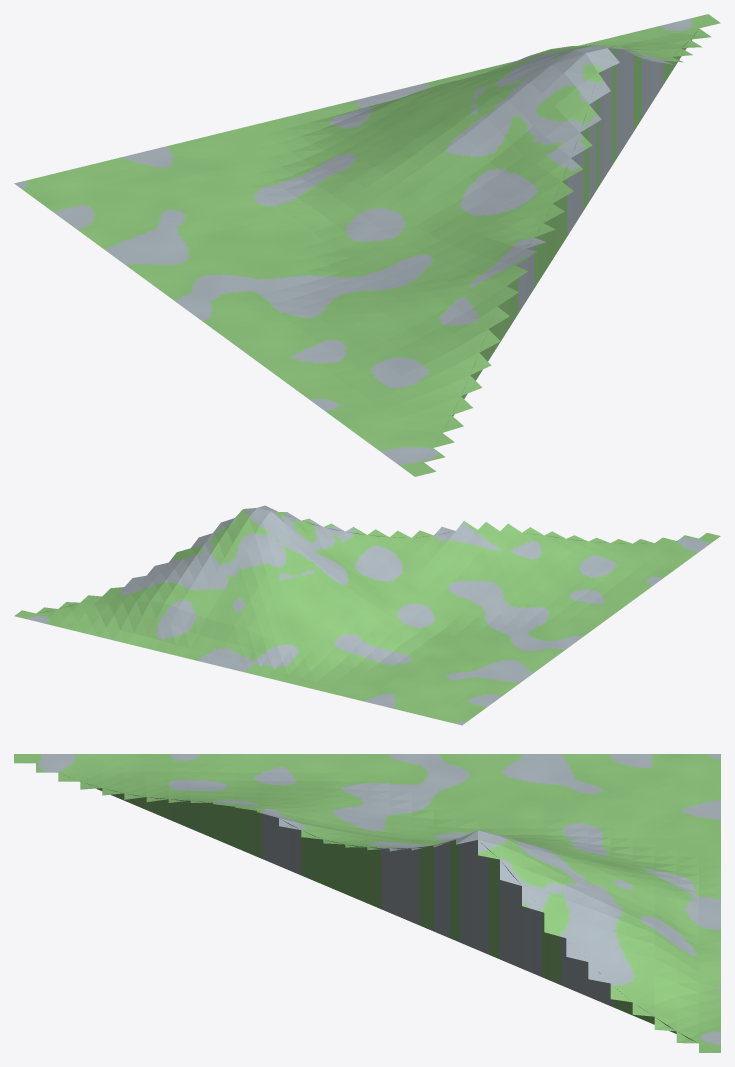
The model's file is Grass_RockyGround_06_SW.obj.
3 views of the same model, one above another, from view 1: azimuth 30°, elevation 25°; view 2: azimuth 150°, elevation 25°; view 3: azimuth 270°, elevation 25° (orthographic). The views are drawn at different scales.
Size of the model in its own units: 10 by 1.72 by 10.
Materials: 1 (1 with a texture image).
